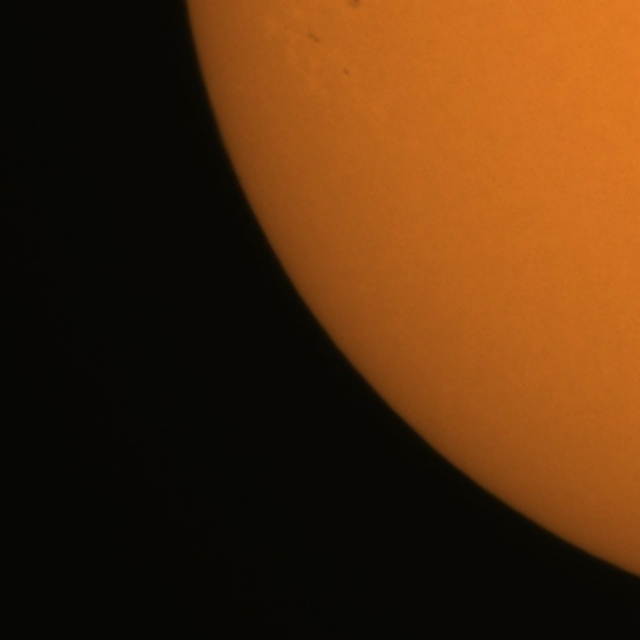sunspot: (306, 31, 322, 46), (342, 67, 350, 78)
